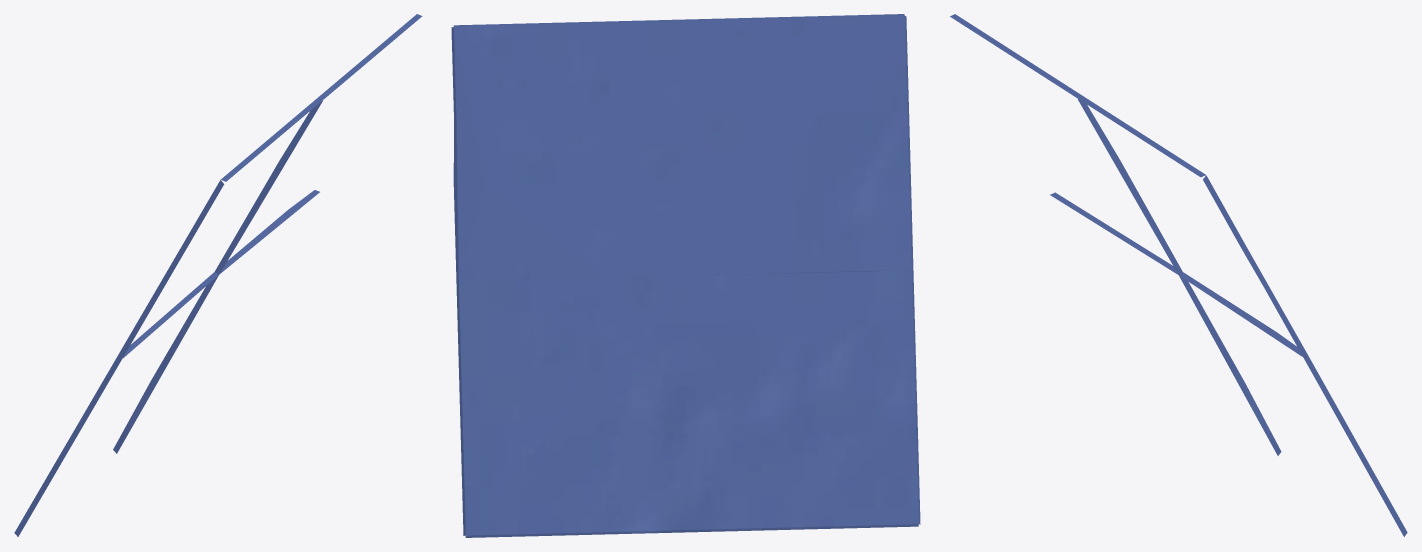
The picture shows the model from 3 angles, left to right: view 1: azimuth 30°, elevation 25°; view 2: azimuth 150°, elevation 25°; view 3: azimuth 270°, elevation 25°; orthographic projection. The views are drawn at different scales.
Bounding box in the file's own units: 78743 × 69969 × 69701.
Materials: 1 (1 with a texture image).
